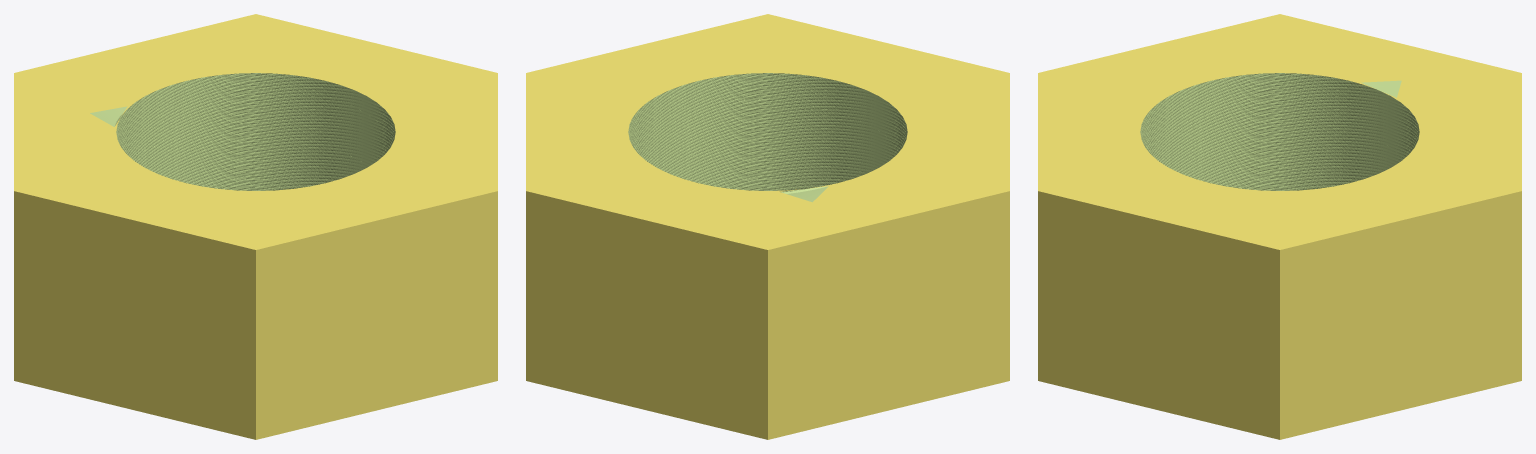
File: hexnut.glb
The picture shows the model from 3 angles, left to right: view 1: azimuth 30°, elevation 25°; view 2: azimuth 150°, elevation 25°; view 3: azimuth 270°, elevation 25°; orthographic projection.
Size of the model in its own units: 24 by 9 by 20.78.
